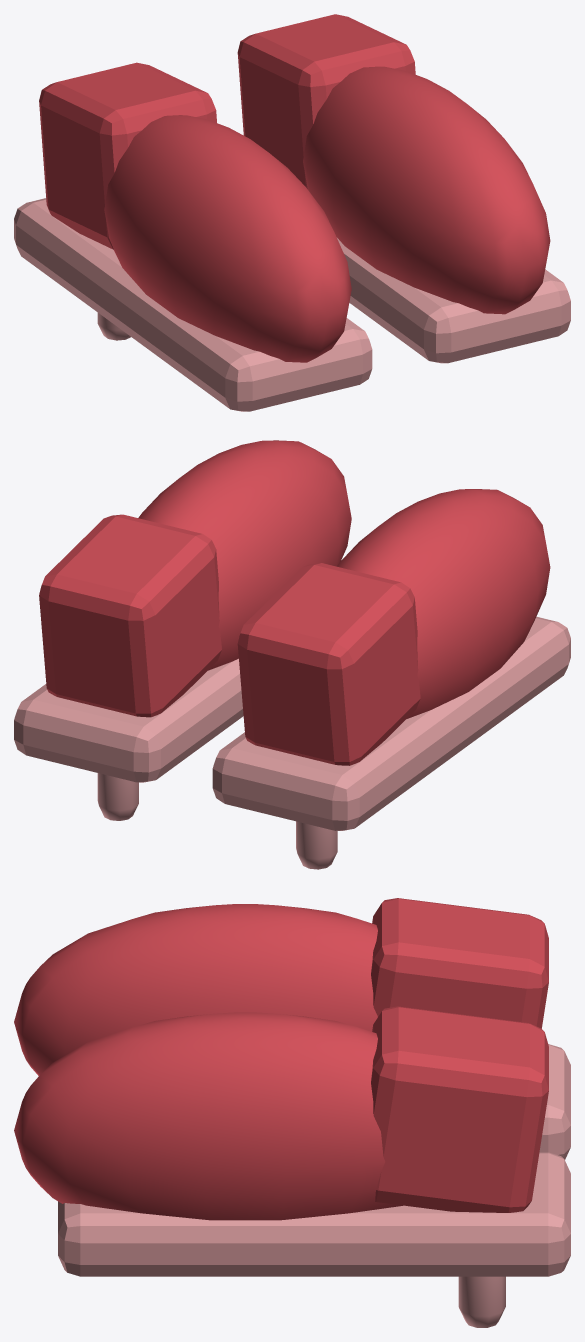
File: VM-CAL-EXT189.glb
3 renders of one model, top to bottom at view 1: azimuth 30°, elevation 25°; view 2: azimuth 150°, elevation 25°; view 3: azimuth 270°, elevation 25°, orthographic. The views are drawn at different scales.
Parts seen in each view (by area): view 1: Zapatos Rojos; view 2: Zapatos Rojos; view 3: Zapatos Rojos.
Boxes of the visible parts, bbox=[...] form: Zapatos Rojos: bbox=[14, 14, 570, 411]; Zapatos Rojos: bbox=[14, 440, 570, 869]; Zapatos Rojos: bbox=[14, 898, 570, 1327].
Size of the model in its own units: 0.2362 by 0.1811 by 0.2964.
